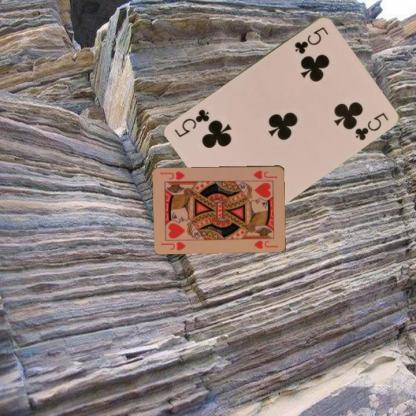5c: (292, 24, 330, 55)
Jh: (251, 168, 278, 180), (159, 240, 187, 251)
